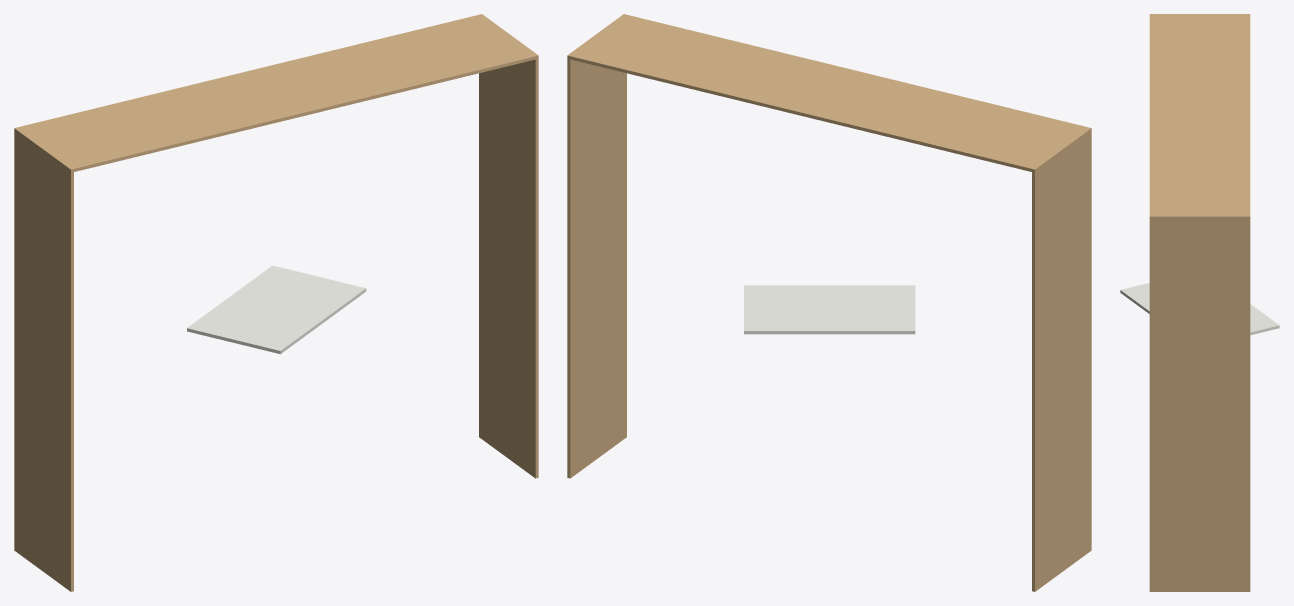
3 renders of one model, left to right at view 1: azimuth 30°, elevation 25°; view 2: azimuth 150°, elevation 25°; view 3: azimuth 270°, elevation 25°, orthographic. The views are drawn at different scales.
Parts seen in each view (by area): view 1: Крыша, Бок л, Бок п, Полка (повёрнута); view 2: Крыша, Бок л, Бок п, Полка (повёрнута); view 3: Бок п, Крыша, Полка (повёрнута).
Boxes of the visible parts, left/top/right/bottom form: Крыша: left=18, top=15, right=535, bottom=171; Бок л: left=14, top=127, right=73, bottom=591; Бок п: left=479, top=14, right=538, bottom=478; Полка (повёрнута): left=187, top=265, right=366, bottom=354; Крыша: left=570, top=15, right=1087, bottom=171; Бок л: left=1032, top=127, right=1091, bottom=591; Бок п: left=567, top=14, right=626, bottom=478; Полка (повёрнута): left=744, top=285, right=915, bottom=334; Бок п: left=1149, top=215, right=1250, bottom=591; Крыша: left=1149, top=15, right=1250, bottom=215; Полка (повёрнута): left=1120, top=283, right=1279, bottom=335.
Size of the model in its own units: 2396 by 796 by 2067.
